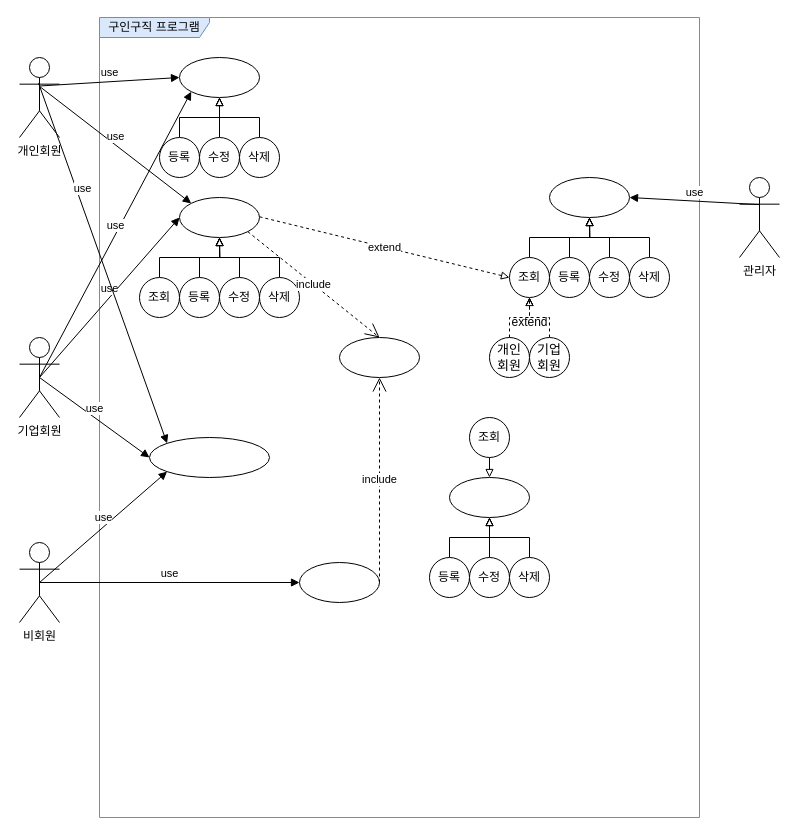
Image size: 797x835. Some labels were removed from this diagram. Each missing label, with the centre of its shape:
로그인: the point at 379,357
마이페이지: the point at 219,217
이력서: the point at 489,497
채용공고: the point at 219,77
채용공고 및 이력서 조회: the point at 209,457
회원가입: the point at 339,582
회원관리: the point at 589,197
